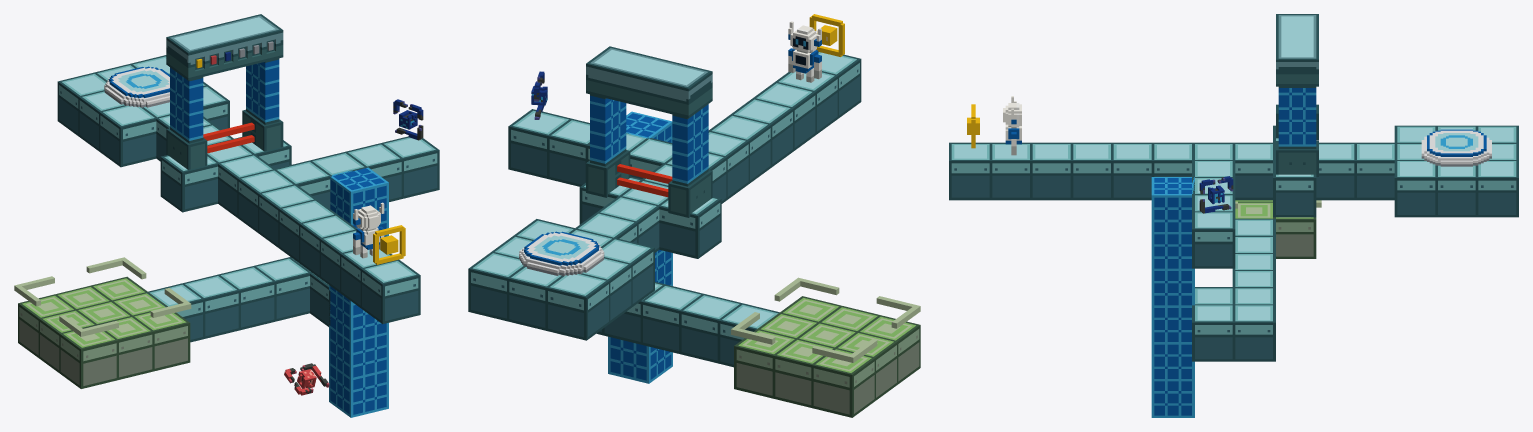
File: M01_T04_ArtGym.fbx
3 views of the same model, side by side, from view 1: azimuth 30°, elevation 25°; view 2: azimuth 150°, elevation 25°; view 3: azimuth 270°, elevation 25° (orthographic). The views are drawn at different scales.
Visible parts, largest first — view 1: Colour Gate001, Normal tile014, Normal tile022, Bin tile006, Normal tile018, Cyber tile001, Cyber tile006, Cyber tile005, Normal tile009, Normal tile034, Normal tile012, Normal tile035 (+36 smaller); view 2: Colour Gate001, Normal tile027, Bin tile007, Normal tile018, Goal001, Normal tile034, Normal tile012, Normal tile009, Normal tile029, Bin tile008, Bin tile009, Normal tile011 (+35 smaller); view 3: Colour Gate001, Normal tile012, Normal tile031, Normal tile023, Normal tile007, Normal tile014, Normal tile006, Normal tile005, Normal tile033, Normal tile013, Cyber tile001, Normal tile029 (+26 smaller).
Boxes of the visible parts, bbox=[...] form: Colour Gate001: bbox=[166, 14, 283, 169]; Normal tile014: bbox=[360, 259, 420, 324]; Normal tile022: bbox=[99, 105, 156, 167]; Bin tile006: bbox=[59, 324, 118, 388]; Normal tile018: bbox=[160, 155, 217, 212]; Cyber tile001: bbox=[329, 167, 388, 228]; Cyber tile006: bbox=[329, 362, 388, 417]; Cyber tile005: bbox=[329, 325, 388, 380]; Normal tile009: bbox=[183, 274, 240, 339]; Normal tile034: bbox=[217, 265, 276, 329]; Normal tile012: bbox=[380, 136, 439, 198]; Normal tile035: bbox=[255, 257, 311, 321]; Colour Gate001: bbox=[586, 46, 712, 217]; Normal tile027: bbox=[545, 274, 610, 340]; Bin tile007: bbox=[811, 348, 875, 417]; Normal tile018: bbox=[659, 196, 721, 258]; Goal001: bbox=[519, 231, 604, 276]; Normal tile034: bbox=[640, 284, 702, 354]; Normal tile012: bbox=[508, 109, 572, 178]; Normal tile009: bbox=[679, 293, 743, 363]; Normal tile029: bbox=[468, 251, 523, 321]; Bin tile008: bbox=[772, 338, 834, 407]; Bin tile009: bbox=[734, 330, 797, 398]; Normal tile011: bbox=[547, 118, 589, 186]; Colour Gate001: bbox=[1276, 14, 1318, 176]; Normal tile012: bbox=[1192, 211, 1235, 268]; Normal tile031: bbox=[1192, 304, 1235, 361]; Normal tile023: bbox=[1394, 160, 1437, 217]; Normal tile007: bbox=[1030, 142, 1073, 200]; Normal tile014: bbox=[949, 142, 992, 200]; Normal tile006: bbox=[1070, 142, 1113, 200]; Normal tile005: bbox=[1111, 142, 1154, 200]; Normal tile033: bbox=[1232, 304, 1275, 361]; Normal tile013: bbox=[989, 142, 1032, 200]; Cyber tile001: bbox=[1151, 177, 1194, 234]; Normal tile029: bbox=[1475, 160, 1518, 217].
Size of the model in its own units: 15.2 by 13.8 by 21.1.
10 materials, 10 textured.
